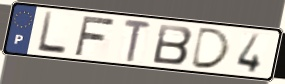4: (234, 32, 265, 76)
B: (151, 22, 195, 66)
D: (188, 26, 232, 71)
F: (72, 14, 118, 57)
L: (35, 10, 68, 56)
T: (122, 18, 153, 64)
